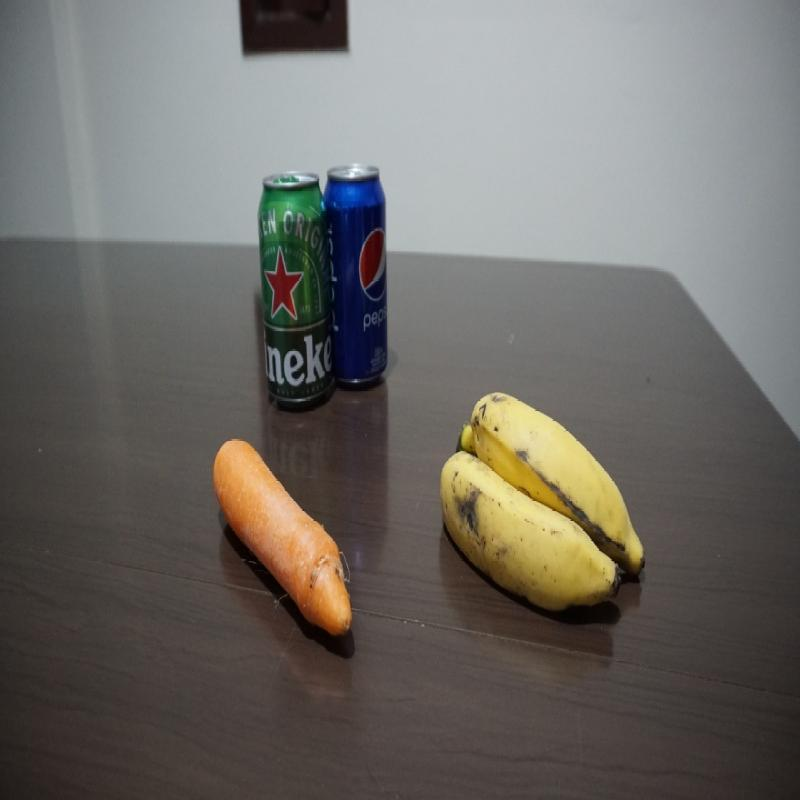Banana: (438, 391, 646, 614)
Beer can: (258, 172, 334, 410)
Carrot: (213, 436, 353, 640)
Soda can: (322, 165, 389, 393)
